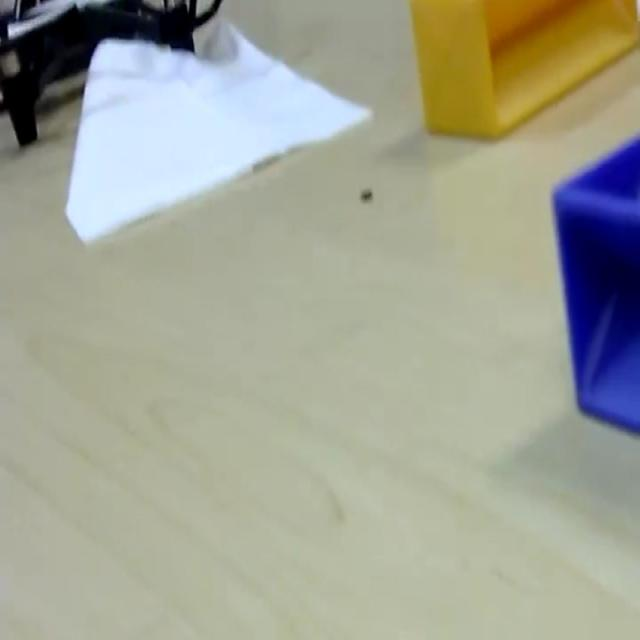blue_block: (550, 129, 638, 435)
yellow_block: (408, 0, 638, 139)
